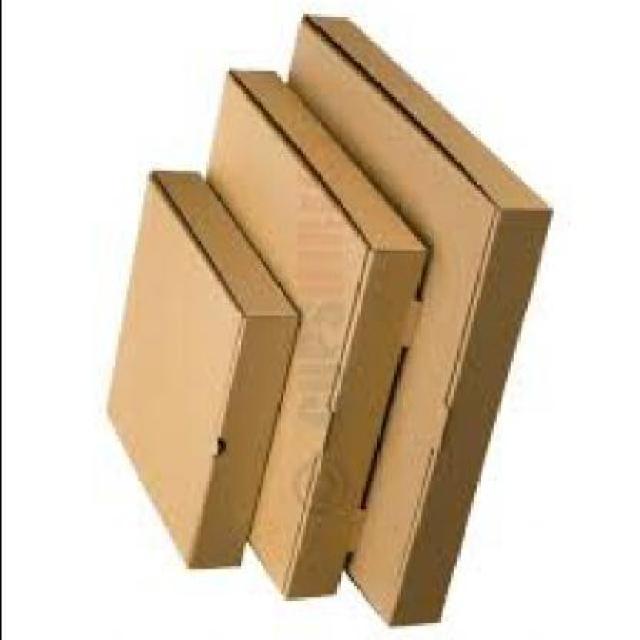CARDBOARD: (282, 17, 549, 629), (199, 71, 427, 603), (102, 173, 296, 572)
